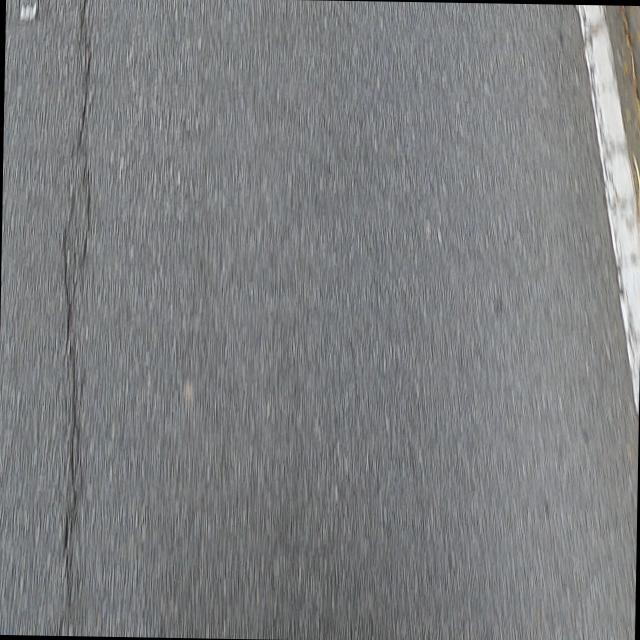Retak-Memanjang: (58, 196, 81, 559), (77, 0, 95, 279)
